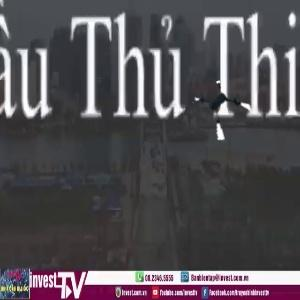drone: (194, 82, 254, 142)
